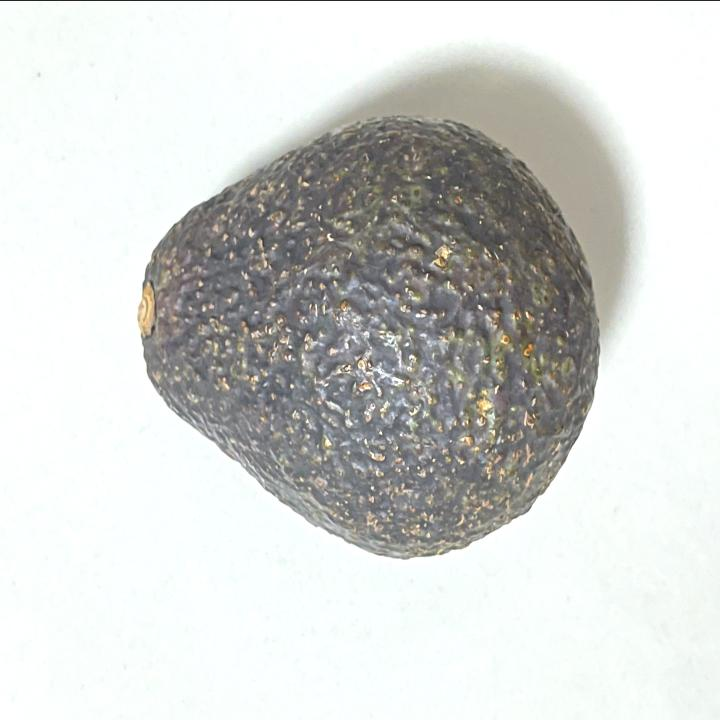Level2: (135, 102, 606, 566)
